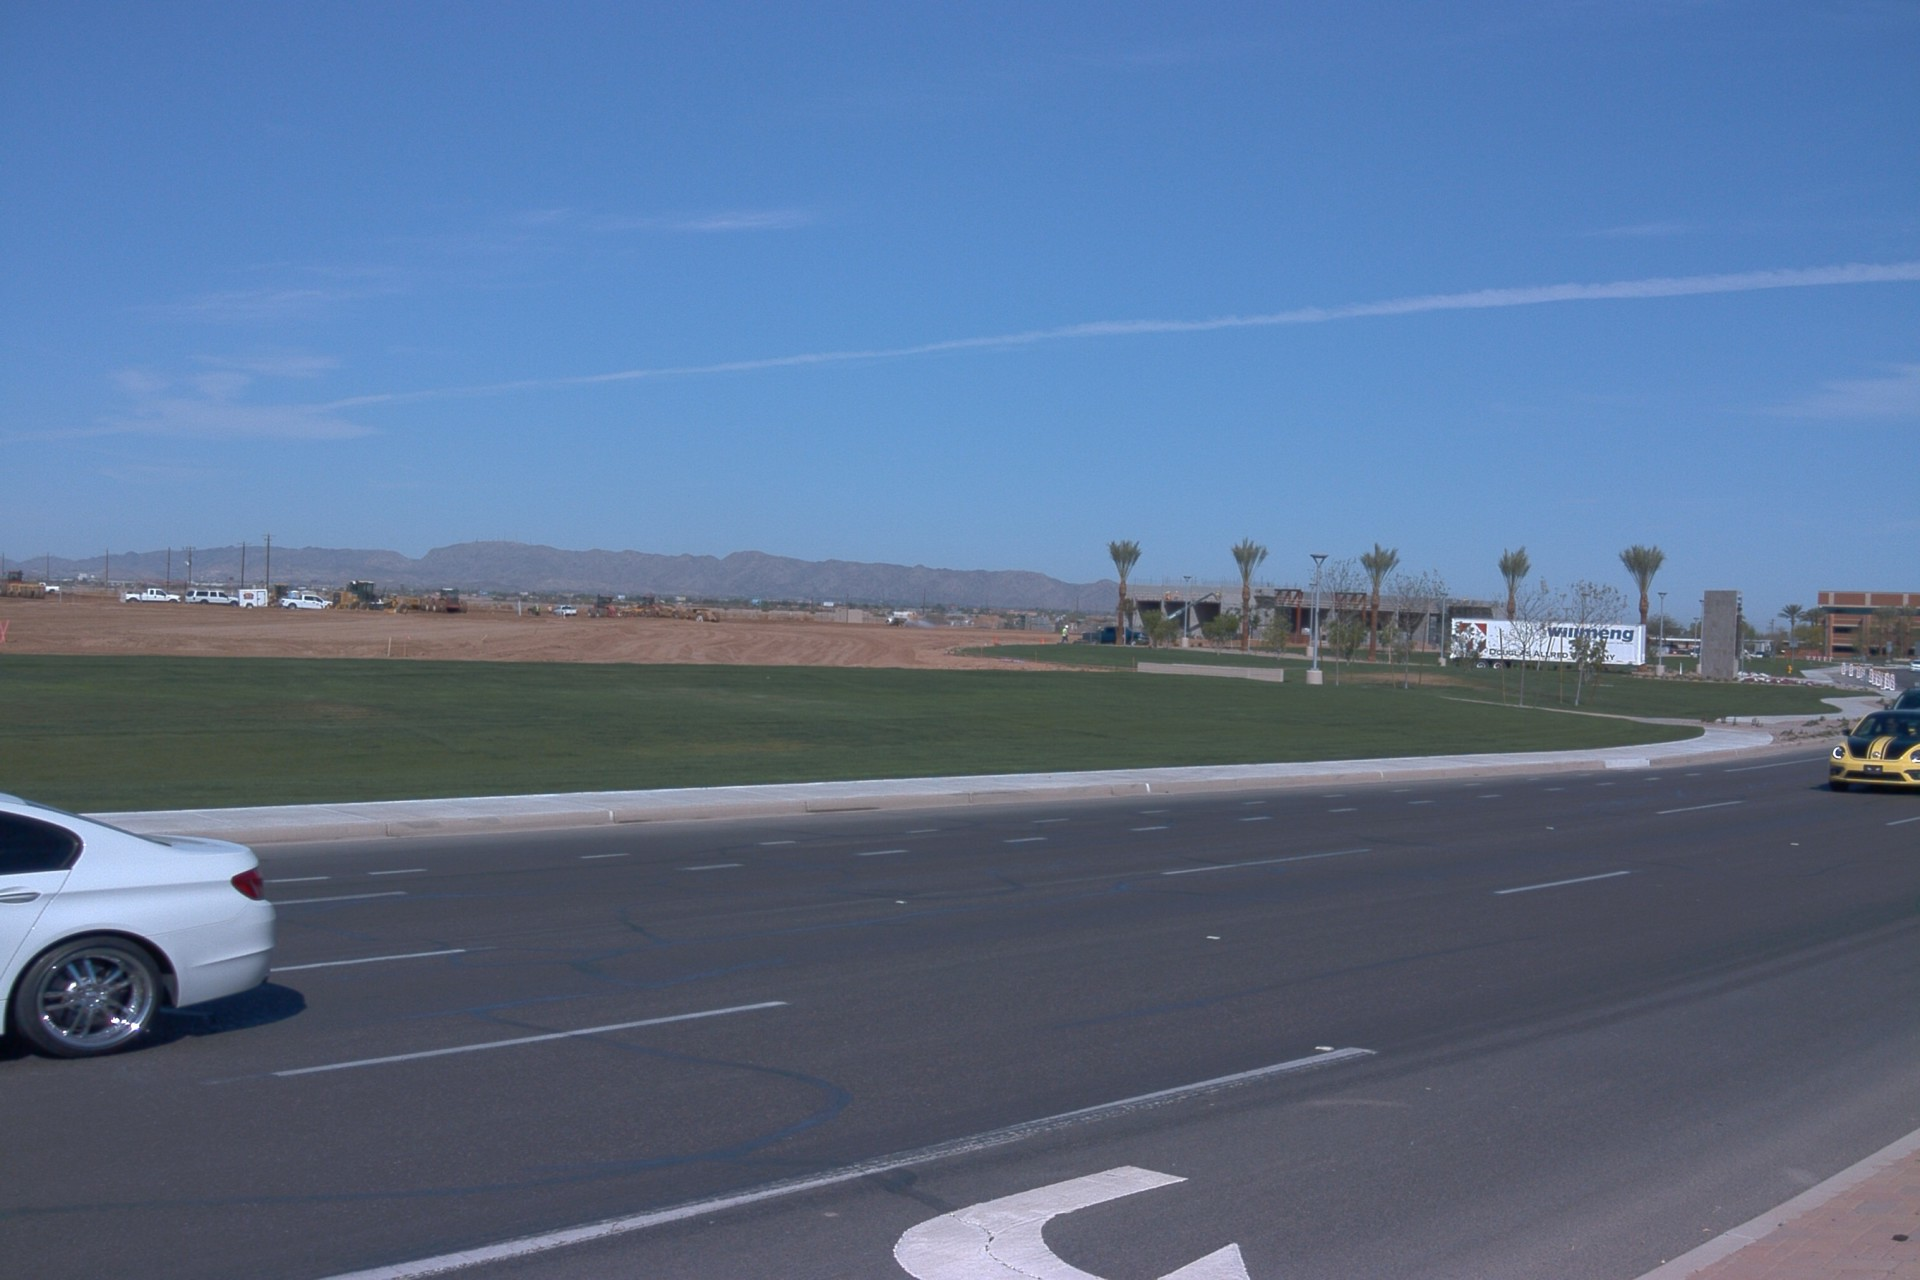TYPE_PEDESTRIAN: (1061, 626, 1071, 647), (532, 603, 540, 617), (546, 604, 553, 616)
TYPE_VEHICLE: (0, 790, 278, 1064), (1449, 614, 1649, 674), (1829, 711, 1920, 794), (317, 576, 405, 618), (404, 584, 469, 615), (1166, 588, 1222, 620), (1082, 625, 1149, 648), (281, 589, 337, 608), (124, 582, 183, 600), (1882, 685, 1920, 712), (185, 589, 245, 606), (881, 608, 925, 628), (235, 588, 270, 608), (271, 580, 294, 599), (553, 602, 577, 616), (40, 579, 63, 593), (1909, 659, 1920, 673)
